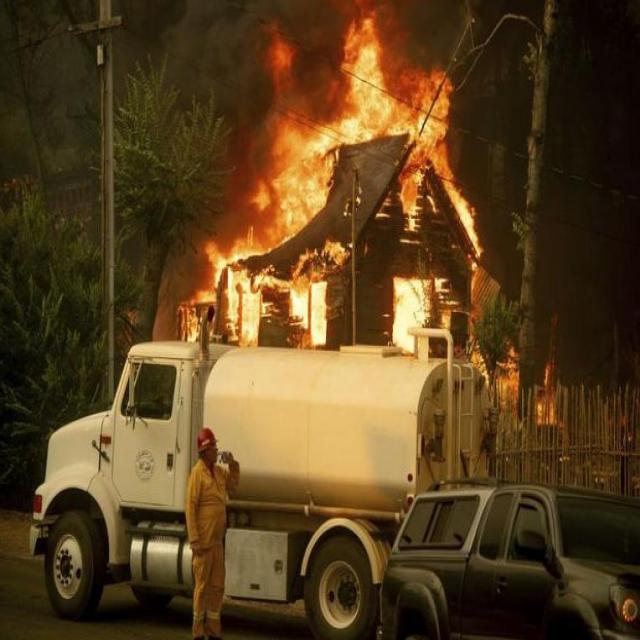fire: (204, 14, 481, 341), (394, 275, 439, 366), (283, 277, 334, 348)
